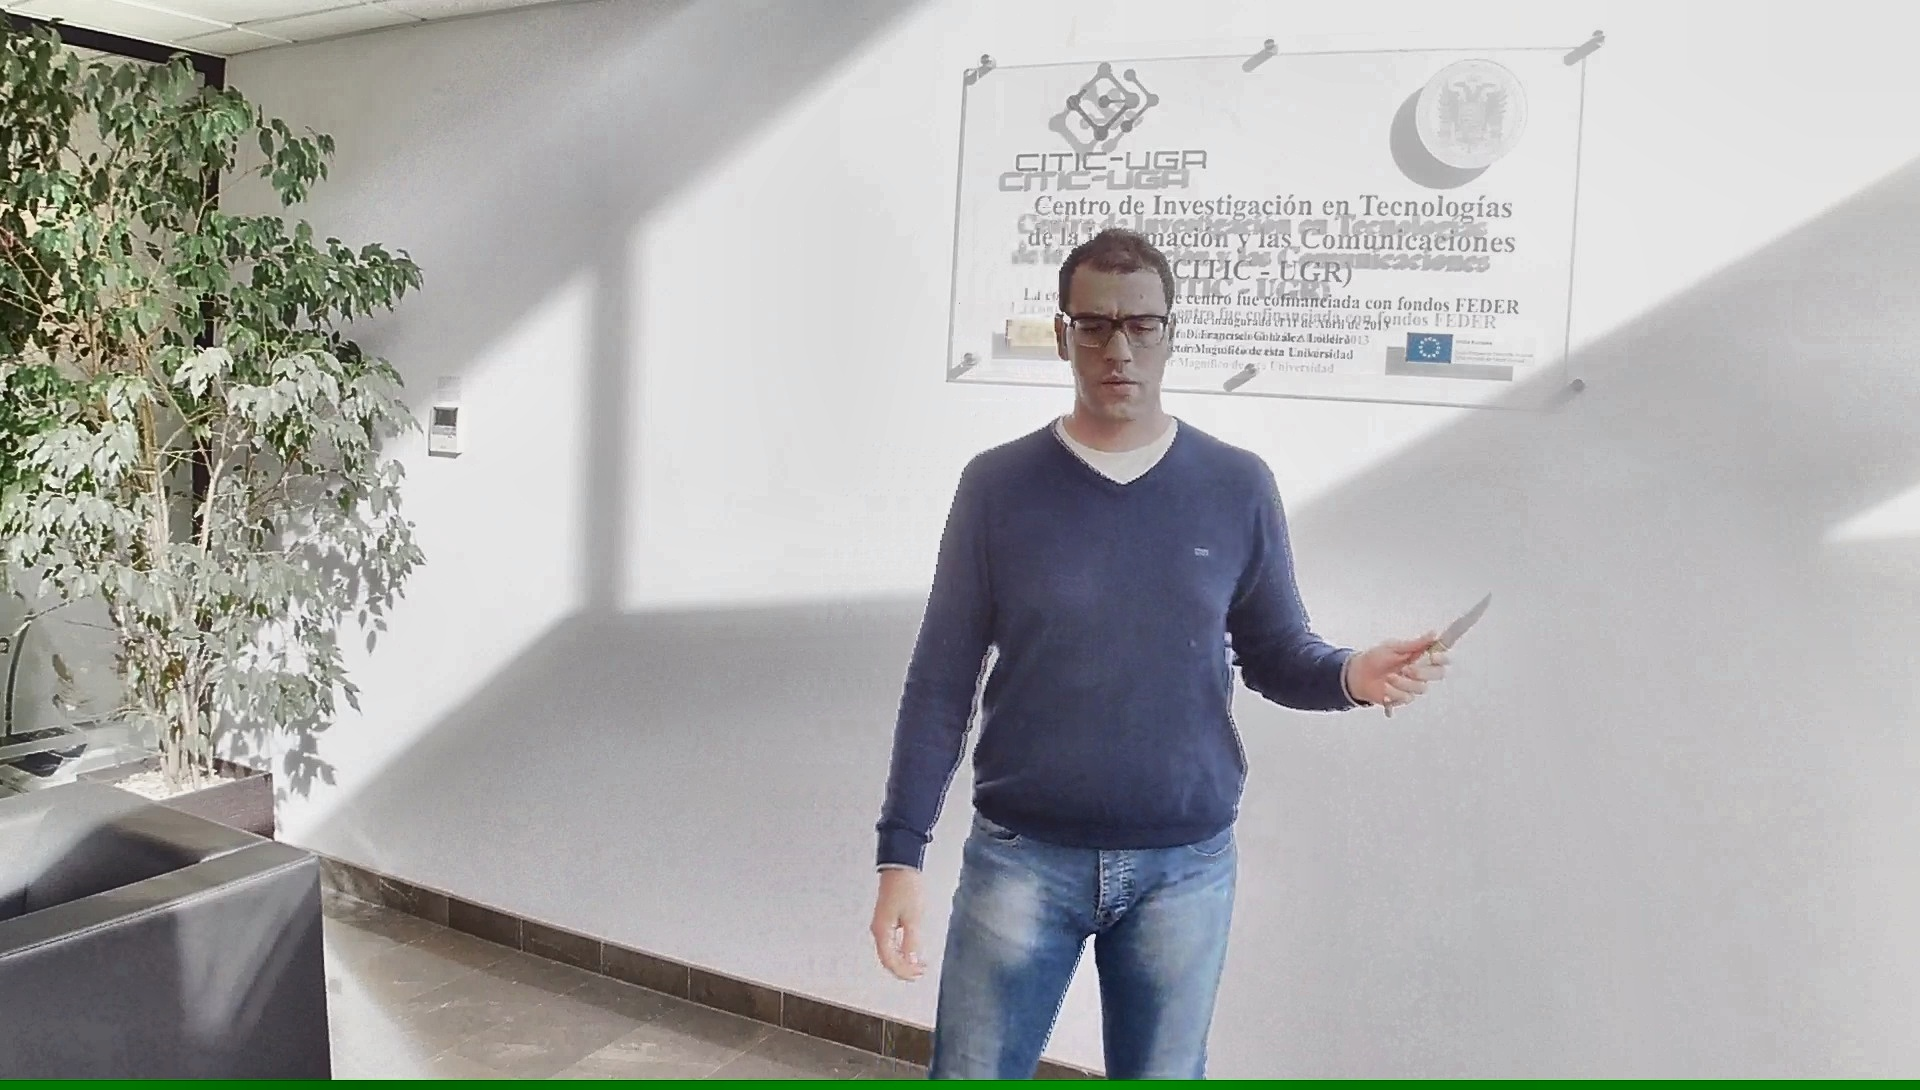knife: (1379, 580, 1505, 724)
